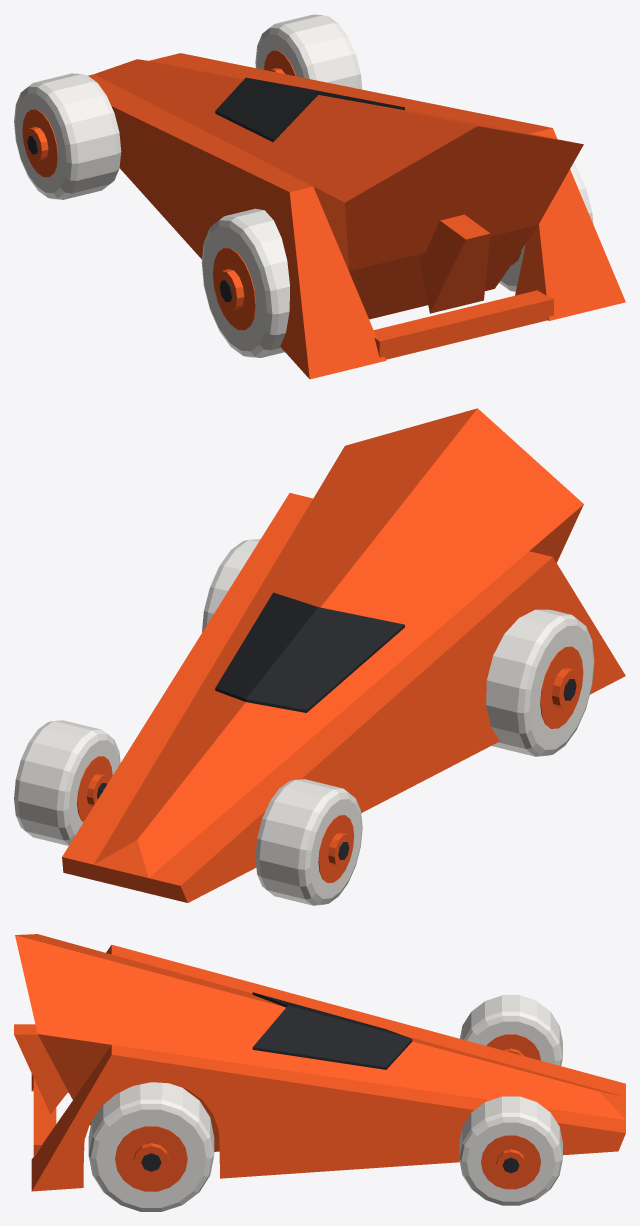
Rendered from falcon.glb.
3 renders of one model, top to bottom at view 1: azimuth 30°, elevation 25°; view 2: azimuth 150°, elevation 25°; view 3: azimuth 270°, elevation 25°, orthographic. The views are drawn at different scales.
Visible parts, largest first — view 1: body, wheel_FL, wheel_RL, wheel_FR, wheel_RR; view 2: body, wheel_RL, wheel_FL, wheel_FR, wheel_RR; view 3: body, wheel_RR, wheel_FR, wheel_FL.
Boxes of the visible parts, x1=… form: body: x1=88, y1=53, x2=625, y2=379; wheel_FL: x1=14, y1=73, x2=121, y2=199; wheel_RL: x1=201, y1=208, x2=289, y2=357; wheel_FR: x1=255, y1=14, x2=362, y2=89; wheel_RR: x1=499, y1=163, x2=593, y2=291; body: x1=62, y1=408, x2=625, y2=902; wheel_RL: x1=486, y1=609, x2=594, y2=756; wheel_FL: x1=255, y1=779, x2=362, y2=905; wheel_FR: x1=14, y1=720, x2=120, y2=845; wheel_RR: x1=202, y1=539, x2=260, y2=632; body: x1=14, y1=934, x2=625, y2=1191; wheel_RR: x1=88, y1=1082, x2=214, y2=1211; wheel_FR: x1=459, y1=1096, x2=562, y2=1205; wheel_FL: x1=460, y1=995, x2=562, y2=1065.
Size of the model in its own units: 2.28 by 1.56 by 4.08.
